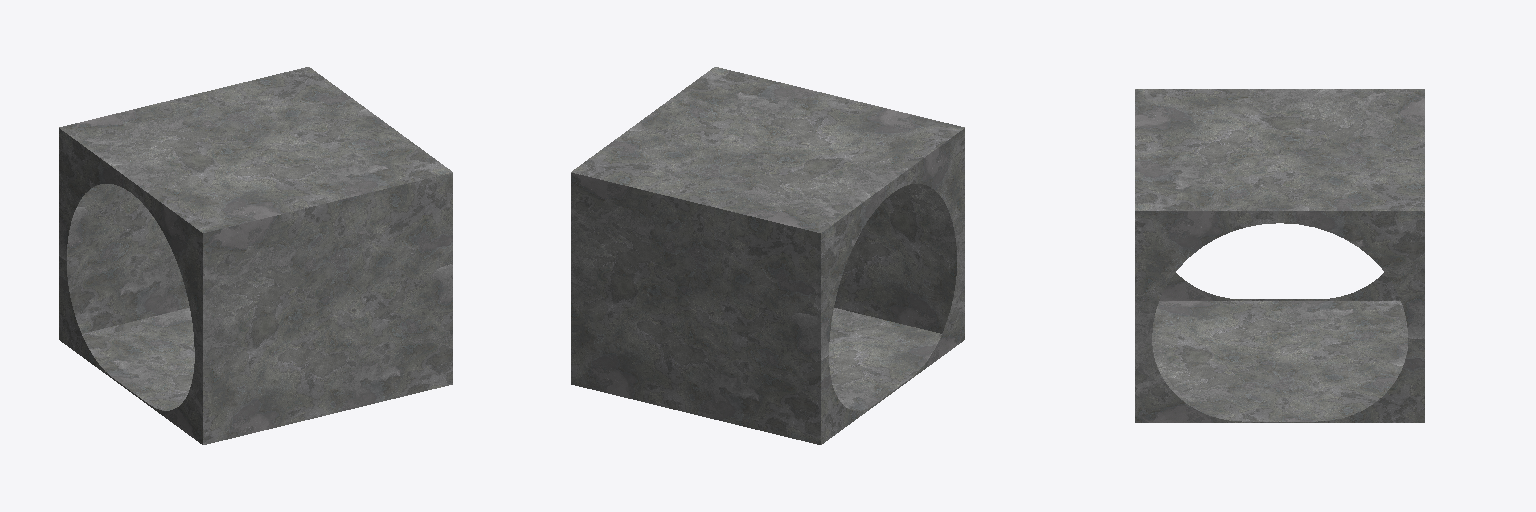
3 renders of one model, left to right at view 1: azimuth 30°, elevation 25°; view 2: azimuth 150°, elevation 25°; view 3: azimuth 270°, elevation 25°, orthographic.
Parts seen in each view (by area): view 1: soba_kanal.001_Cube.008; view 2: soba_kanal.001_Cube.008; view 3: soba_kanal.001_Cube.008.
Boxes of the visible parts, box(x1,y1,x2,y2) form: soba_kanal.001_Cube.008: box(59, 67, 452, 444); soba_kanal.001_Cube.008: box(571, 67, 964, 444); soba_kanal.001_Cube.008: box(1135, 89, 1424, 422).
Bounding box in the file's own units: 4.51 × 3.65 × 4.51.
Materials: 1 (1 with a texture image).